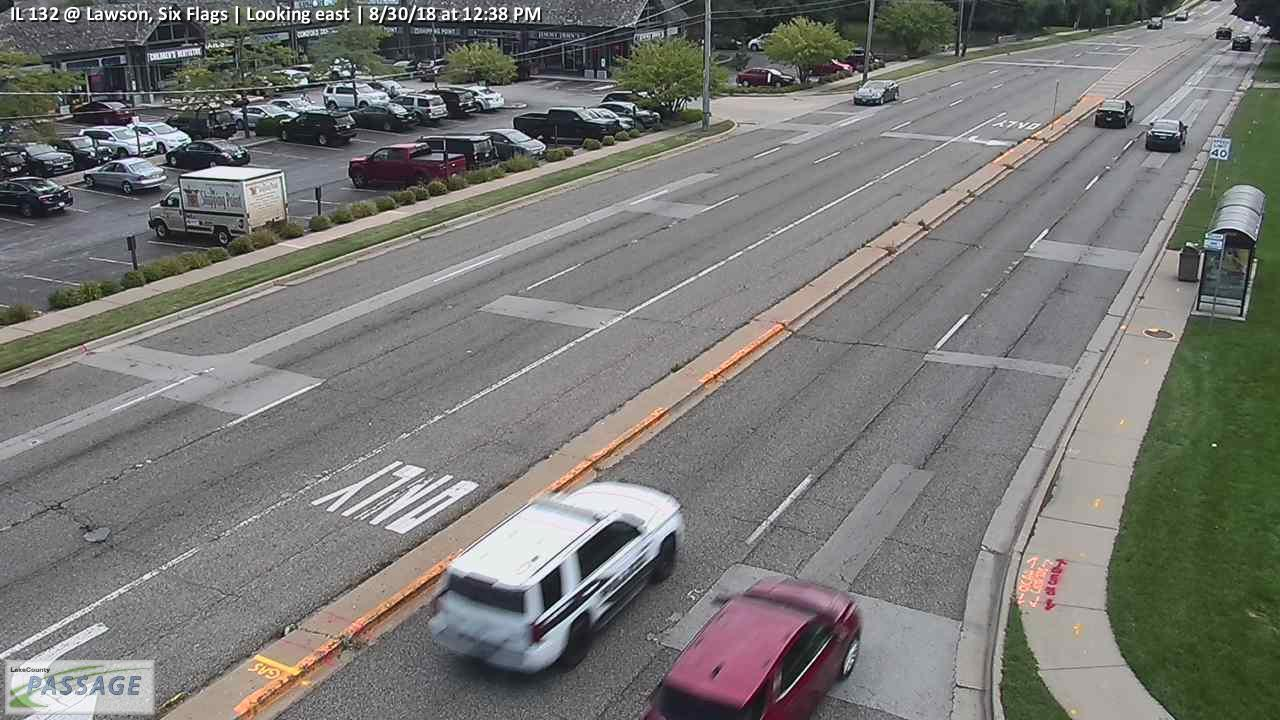SUV: (429, 483, 686, 675), (636, 576, 862, 720), (415, 134, 499, 172), (279, 110, 356, 145), (78, 125, 157, 157), (2, 142, 74, 176), (161, 110, 238, 140), (479, 129, 547, 160), (323, 80, 390, 111), (599, 91, 666, 119), (592, 102, 661, 129), (388, 92, 448, 123), (55, 135, 112, 167), (421, 87, 477, 115), (1147, 16, 1163, 30)
Sedan: (80, 156, 168, 193), (1, 177, 73, 216), (166, 138, 250, 169), (125, 120, 192, 153), (347, 103, 416, 131), (72, 100, 135, 127), (231, 105, 300, 129), (567, 108, 630, 132), (1146, 118, 1188, 152), (451, 86, 504, 112), (1094, 99, 1135, 129), (735, 67, 793, 88), (853, 79, 899, 104), (364, 80, 416, 101), (266, 98, 313, 115), (1233, 35, 1252, 51), (1215, 26, 1233, 40), (1175, 10, 1188, 21)
Truck: (148, 165, 288, 247), (349, 143, 466, 188), (513, 106, 622, 143)
